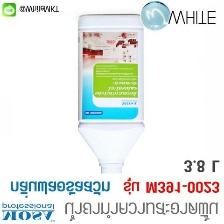cleaning_solution: (76, 11, 146, 178)
